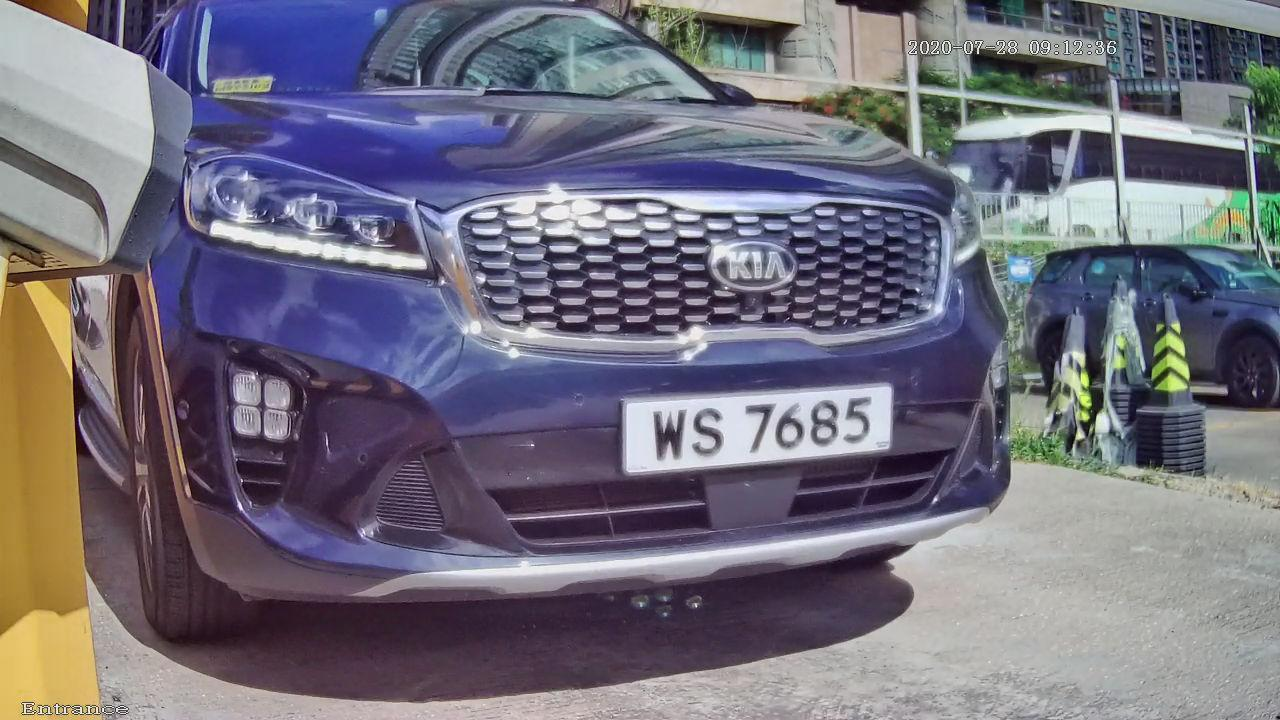privatecar: (14, 1, 1043, 681)
